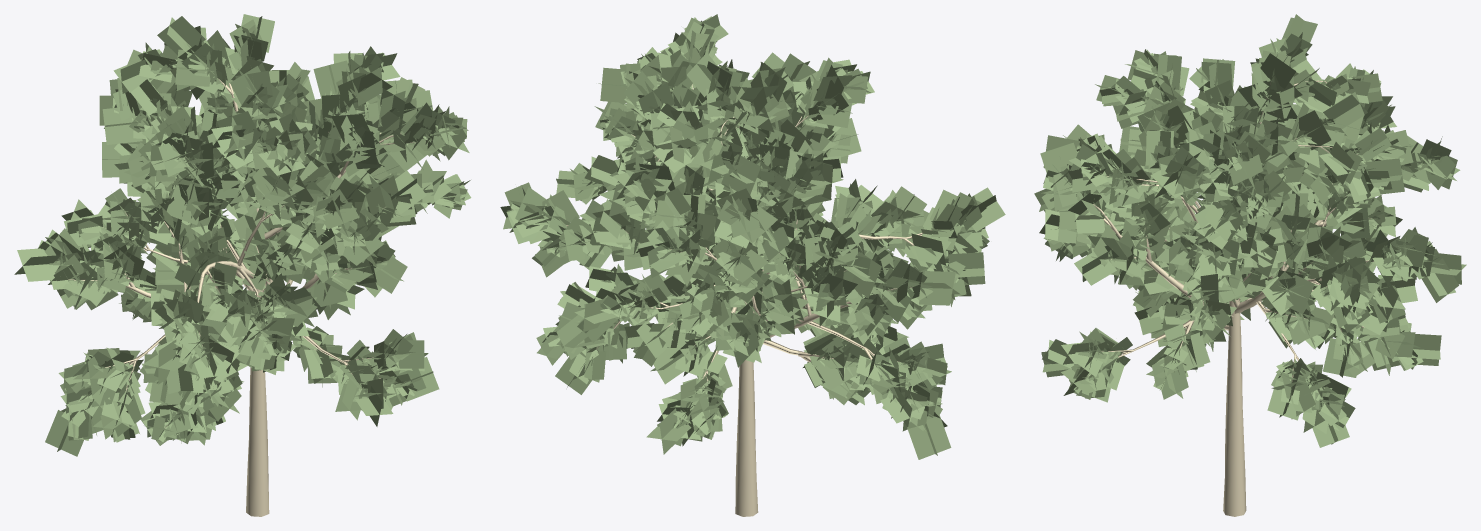
File: oak_m.glb
3 views of the same model, side by side, from view 1: azimuth 30°, elevation 25°; view 2: azimuth 150°, elevation 25°; view 3: azimuth 270°, elevation 25° (orthographic). The views are drawn at different scales.
Parts seen in each view (by area): view 1: leaves, branches; view 2: leaves, branches; view 3: leaves, branches.
Part boxes in pixels (<box>): leaves: <box>14,14,471,456</box>; branches: <box>68,78,415,516</box>; leaves: <box>500,14,1005,459</box>; branches: <box>566,84,931,516</box>; leaves: <box>1034,14,1466,447</box>; branches: <box>1087,80,1382,516</box>.
Size of the model in its own units: 57.73 by 62.4 by 51.36.
